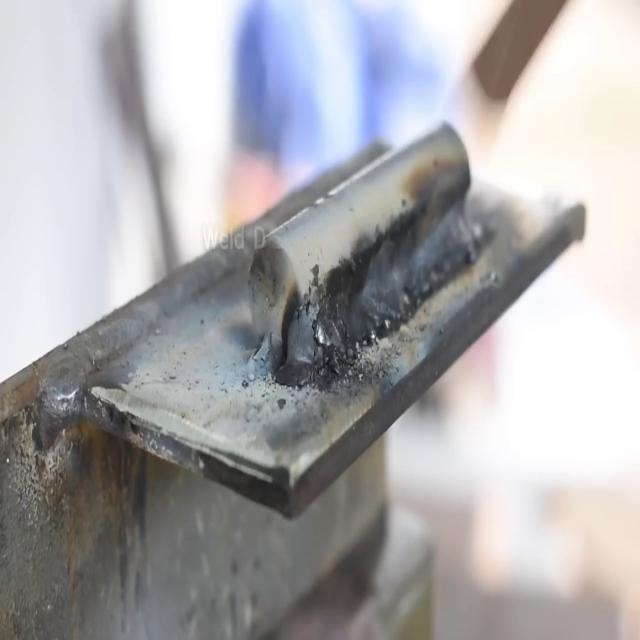Bad Welding: (276, 230, 457, 388)
